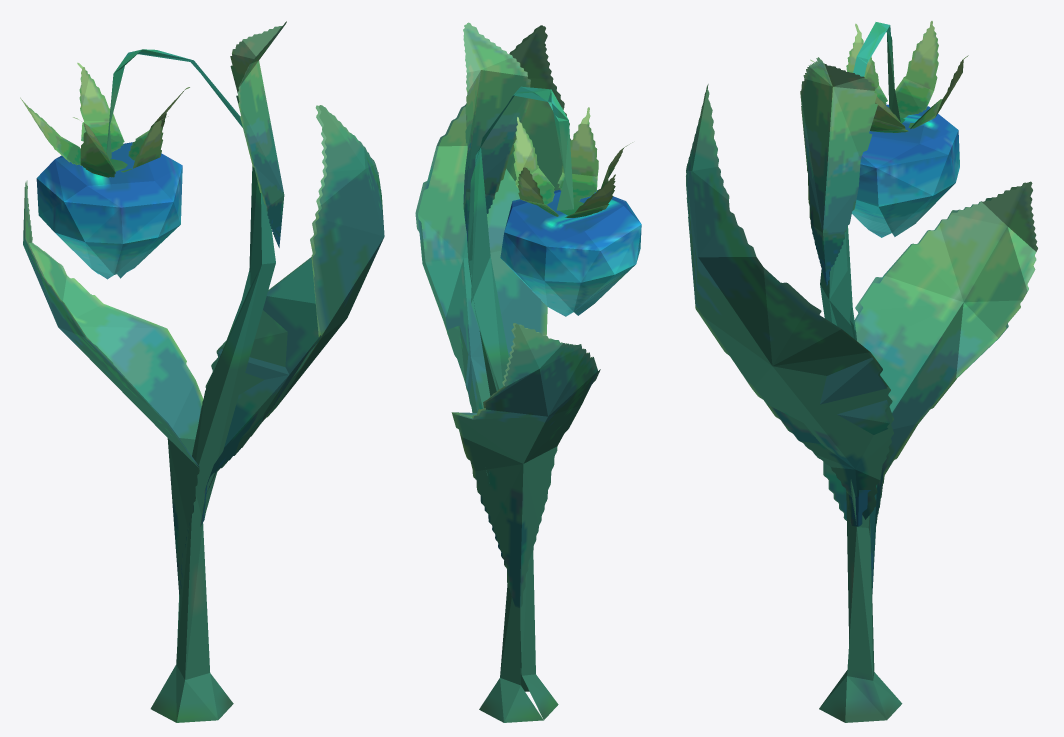
Rendered from gi-Fuchsia01.glb.
3 views of the same model, side by side, from view 1: azimuth 30°, elevation 25°; view 2: azimuth 150°, elevation 25°; view 3: azimuth 270°, elevation 25° (orthographic). The views are drawn at different scales.
Visible parts, largest first — view 1: gi-Fuchsia01; view 2: gi-Fuchsia01; view 3: gi-Fuchsia01.
Boxes of the visible parts, left/top/right/bottom form: gi-Fuchsia01: left=20, top=21, right=384, bottom=722; gi-Fuchsia01: left=415, top=22, right=641, bottom=722; gi-Fuchsia01: left=686, top=21, right=1037, bottom=722.
Size of the model in its own units: 0.3626 by 0.8307 by 0.3995.
2 materials, 2 textured.
